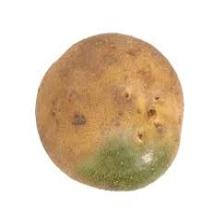Defected potato: (34, 26, 186, 204)
